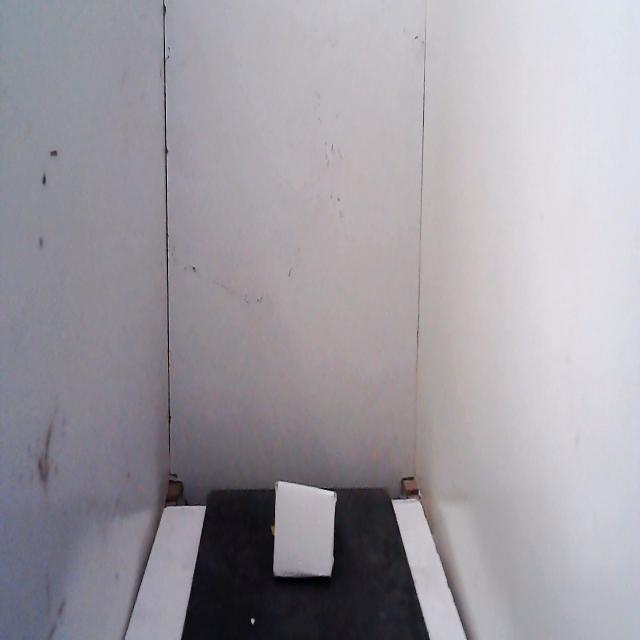paper: (260, 465, 349, 606)
